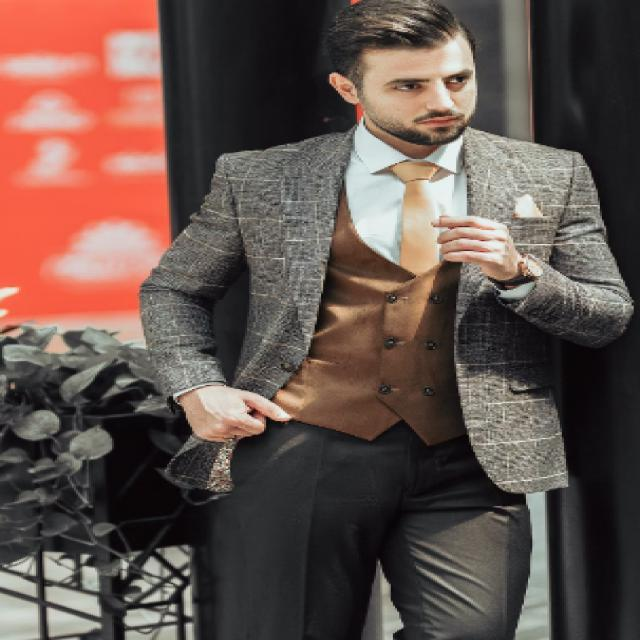Watch: (492, 252, 546, 298)
